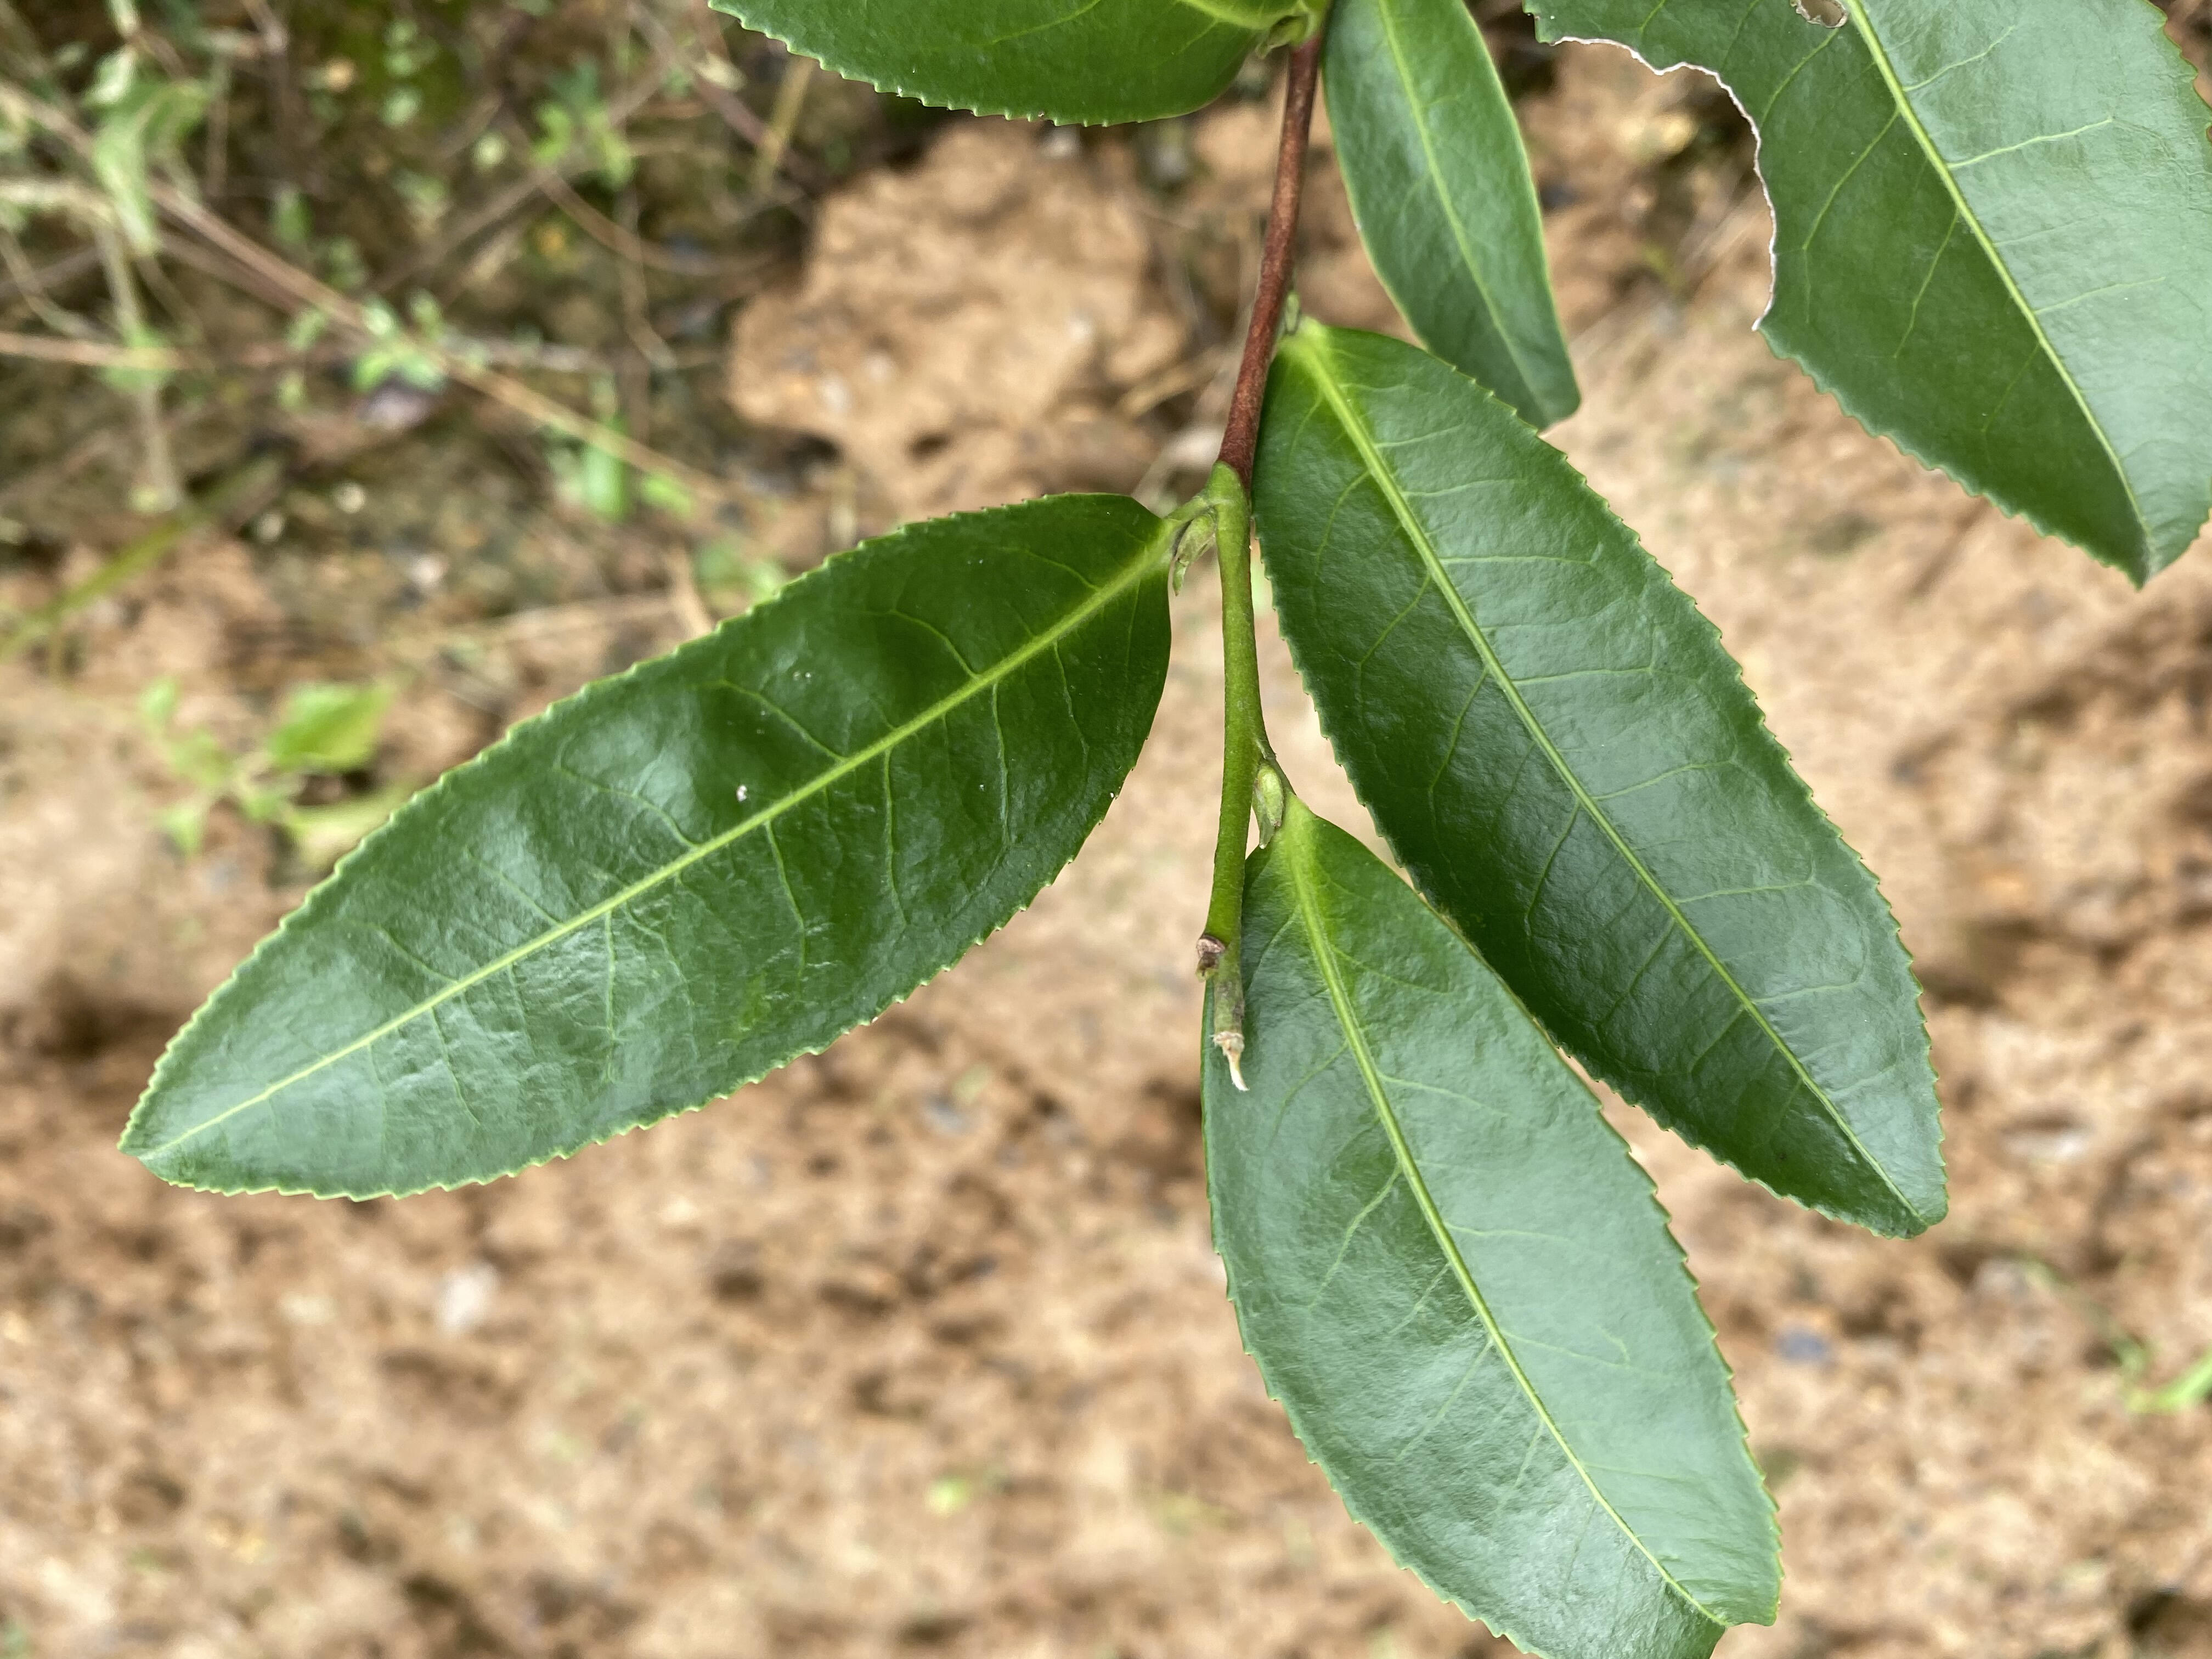chihuo_high: (1524, 0, 2209, 586)
healthy: (113, 493, 1170, 1201), (1251, 322, 1949, 1239), (1204, 805, 1785, 1657), (1325, 2, 1587, 432)
